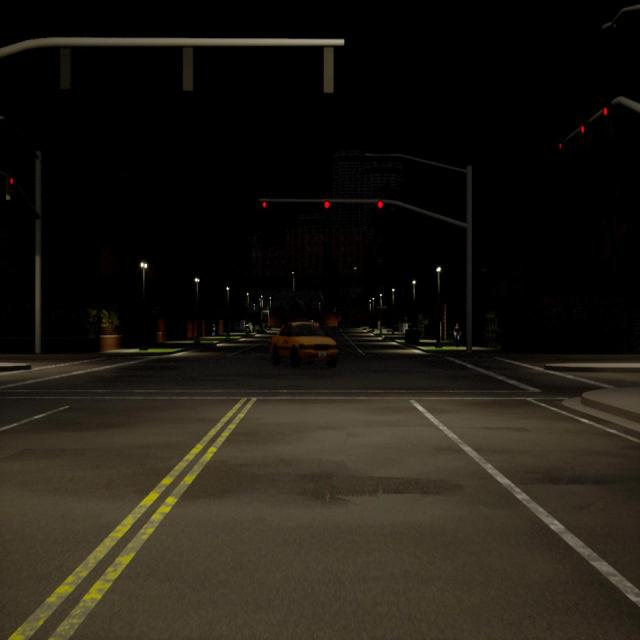Pedestrian: (454, 323, 460, 347), (212, 323, 215, 336)
Vehicle: (271, 322, 338, 367)
traffic_light: (324, 46, 334, 92), (183, 46, 193, 91), (60, 47, 70, 87), (6, 177, 14, 200), (324, 200, 330, 208), (377, 201, 383, 208), (262, 201, 267, 208), (581, 126, 584, 133), (604, 108, 607, 115), (560, 143, 562, 148)
